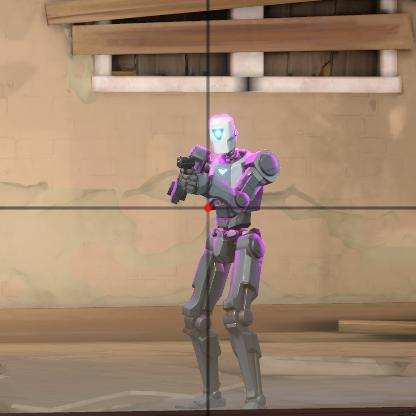enemyBody: (189, 154, 281, 241)
enemyHead: (198, 117, 239, 152)
